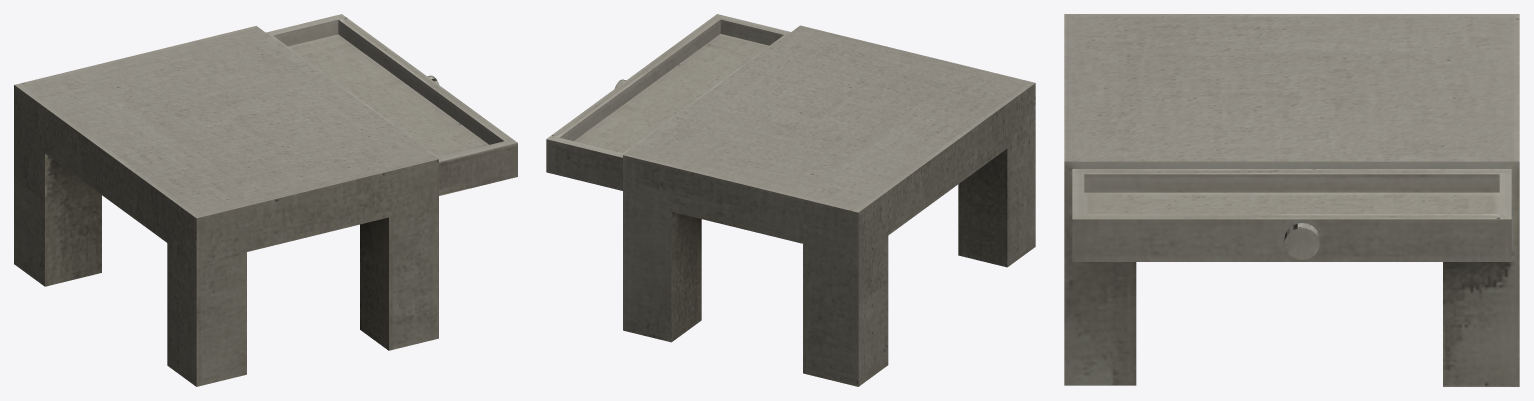
The picture shows the model from 3 angles, left to right: view 1: azimuth 30°, elevation 25°; view 2: azimuth 150°, elevation 25°; view 3: azimuth 270°, elevation 25°; orthographic projection. The views are drawn at different scales.
Parts seen in each view (by area): view 1: Node; view 2: Node; view 3: Node.
Boxes of the visible parts, box(x1,y1,x2,y2) form: Node: box(14, 14, 517, 386); Node: box(546, 14, 1035, 386); Node: box(1064, 14, 1519, 386).
Bounding box in the file's own units: 0.7 × 0.3627 × 0.6646.
Materials: 1 (1 with a texture image).
